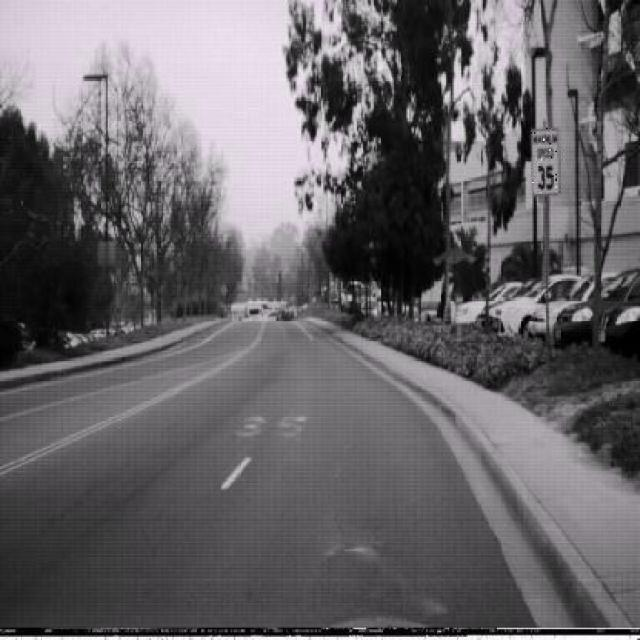speedLimit35: (530, 126, 562, 197)
